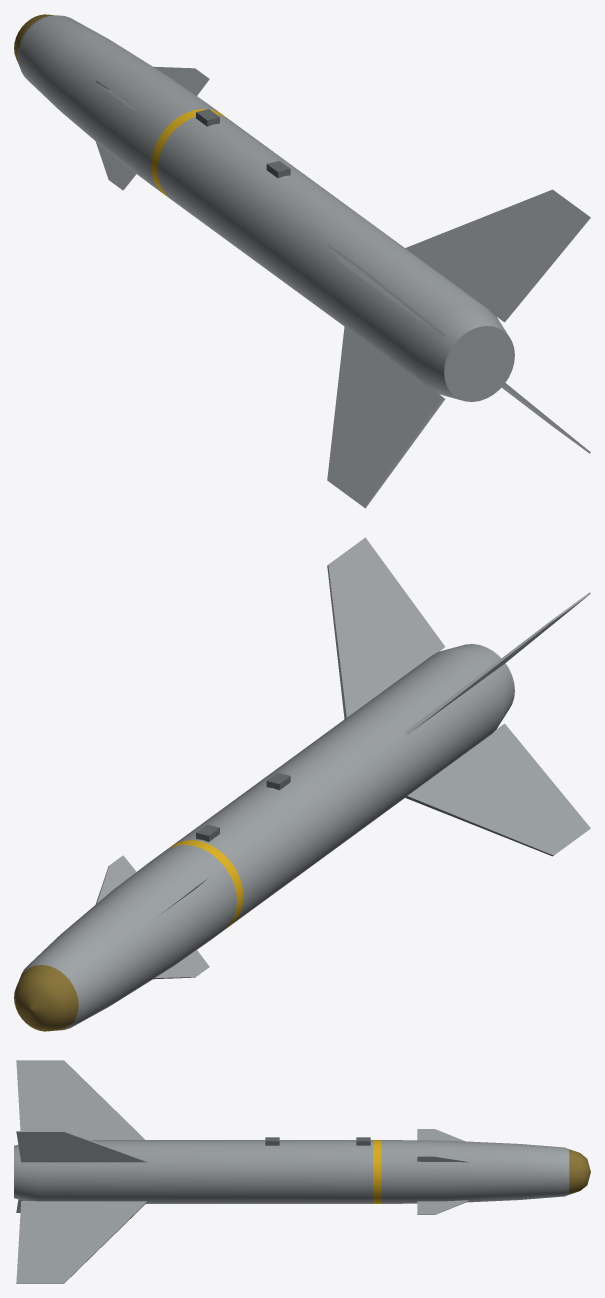
Rendered from popeye.glb.
3 renders of one model, top to bottom at view 1: azimuth 30°, elevation 25°; view 2: azimuth 150°, elevation 25°; view 3: azimuth 270°, elevation 25°, orthographic. The views are drawn at different scales.
Visible parts, largest first — view 1: popeye_body; view 2: popeye_body; view 3: popeye_body.
Part boxes in pixels (x1,y1,x2,y2): popeye_body: (14, 14, 590, 508); popeye_body: (14, 537, 590, 1031); popeye_body: (14, 1060, 590, 1283).
Size of the model in its own units: 1.37 by 1.37 by 4.69.
4 materials, 4 textured.
